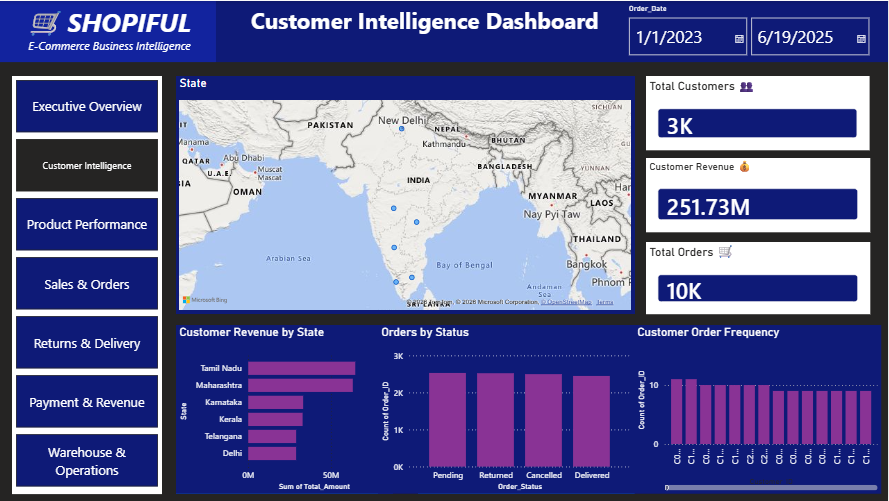

Layout of this report page (visuals, bound fields, positions):
{"tool":"powerbi","page":{"name":"Customer Intelligence","canvas":[1280,720],"ordinal":1},"visuals":[{"type":"shape","box":[253.2,466.8,311.7,242.9],"z":0},{"type":"shape","box":[601.5,466.8,311.7,242.9],"z":1000},{"type":"cardVisual","title":"Total Customers 👥","fields":{"Data":["cartnova customers.Total Customers"]},"box":[930.2,108,322,106.8],"z":2000},{"type":"map","fields":{"Category":["cartnova customers.State"]},"box":[253.4,108,660,342.4],"z":3000},{"type":"cardVisual","title":"Customer Revenue 💰","fields":{"Data":["Sum(cartnova orders.Total_Amount)"]},"box":[930.2,226.1,322.6,106.6],"z":4000},{"type":"cardVisual","title":"Total Orders 🛒","fields":{"Data":["cartnova orders.Total Orders"]},"box":[930.2,347,322.6,103.7],"z":5000},{"type":"clusteredBarChart","title":"Customer Revenue by State","fields":{"Category":["cartnova customers.State"],"Y":["Sum(cartnova orders.Total_Amount)"]},"box":[253.2,466.8,311.7,242.9],"z":6000},{"type":"clusteredColumnChart","title":"Orders by Status","fields":{"Y":["CountNonNull(cartnova orders.Order_ID)"],"Category":["cartnova orders.Order_Status"]},"box":[544.4,466.8,368.8,242.9],"z":7000},{"type":"clusteredColumnChart","title":"Customer Order Frequency","fields":{"Category":["cartnova orders.Customer_ID"],"Y":["CountNonNull(cartnova orders.Order_ID)"]},"box":[913,466.6,355.7,243.4],"z":8000},{"type":"textbox","box":[311,0,601.9,87.8],"z":9000},{"type":"slicer","fields":{"Values":["cartnova orders.Order_Date"]},"box":[892.8,0,387.4,87.8],"z":10000},{"type":"textbox","box":[0,0,311,87.8],"z":11000},{"type":"pageNavigator","box":[17.3,108,216,601.9],"z":12000}]}

Visuals, with their boxes in screenshot pixels (x1, y1, x2, y2), scaled from the page's 1280x720 canvas onto the 889x501 screenshot:
shape: x1=176 y1=325 x2=392 y2=494
shape: x1=418 y1=325 x2=634 y2=494
"Total Customers 👥" cardVisual: x1=646 y1=75 x2=870 y2=149
map - cartnova customers.State: x1=176 y1=75 x2=634 y2=313
"Customer Revenue 💰" cardVisual: x1=646 y1=157 x2=870 y2=232
"Total Orders 🛒" cardVisual: x1=646 y1=241 x2=870 y2=314
"Customer Revenue by State" clusteredBarChart: x1=176 y1=325 x2=392 y2=494
"Orders by Status" clusteredColumnChart: x1=378 y1=325 x2=634 y2=494
"Customer Order Frequency" clusteredColumnChart: x1=634 y1=325 x2=881 y2=494
textbox: x1=216 y1=0 x2=634 y2=61
slicer - cartnova orders.Order_Date: x1=620 y1=0 x2=888 y2=61
textbox: x1=0 y1=0 x2=216 y2=61
pageNavigator: x1=12 y1=75 x2=162 y2=494
